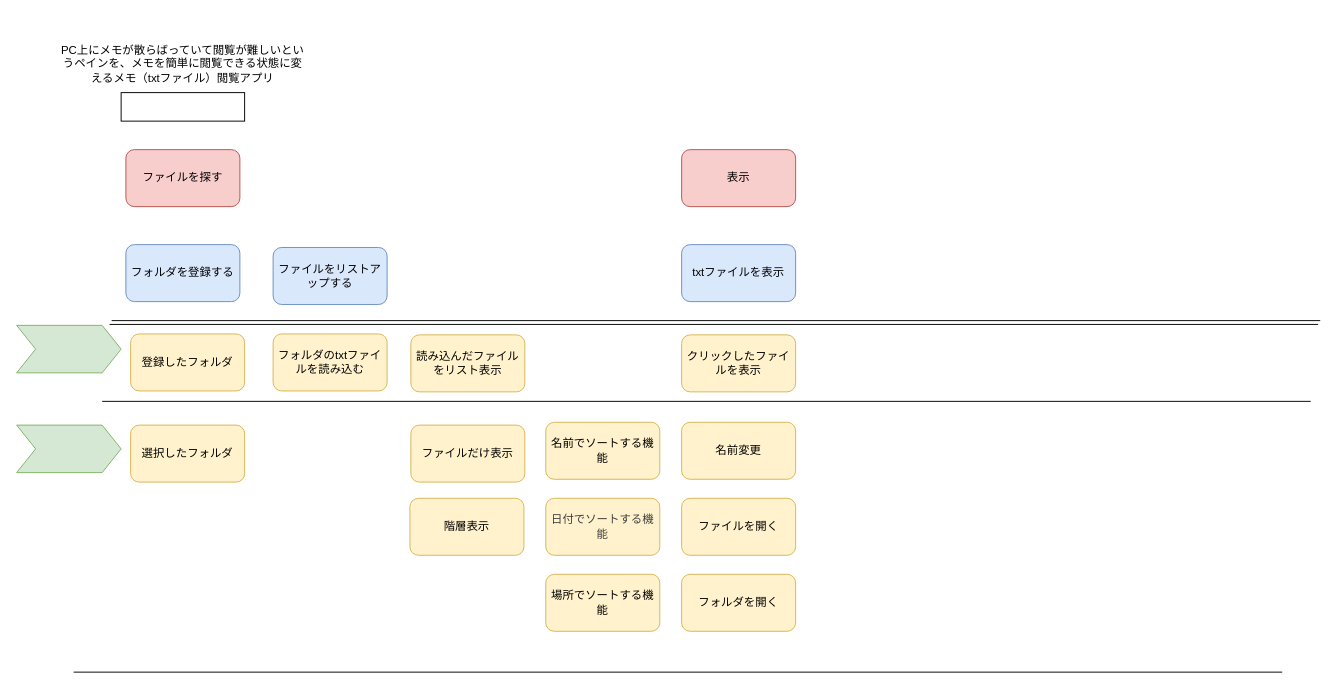
The diagram is 1339 pixels wide and 690 high, and some of its shapes have lost their labels. Each missing label, with the centre of its shape:
ウォーキングスケルトン: point (68, 348)
機能追加: point (68, 448)
自分: point (182, 106)
